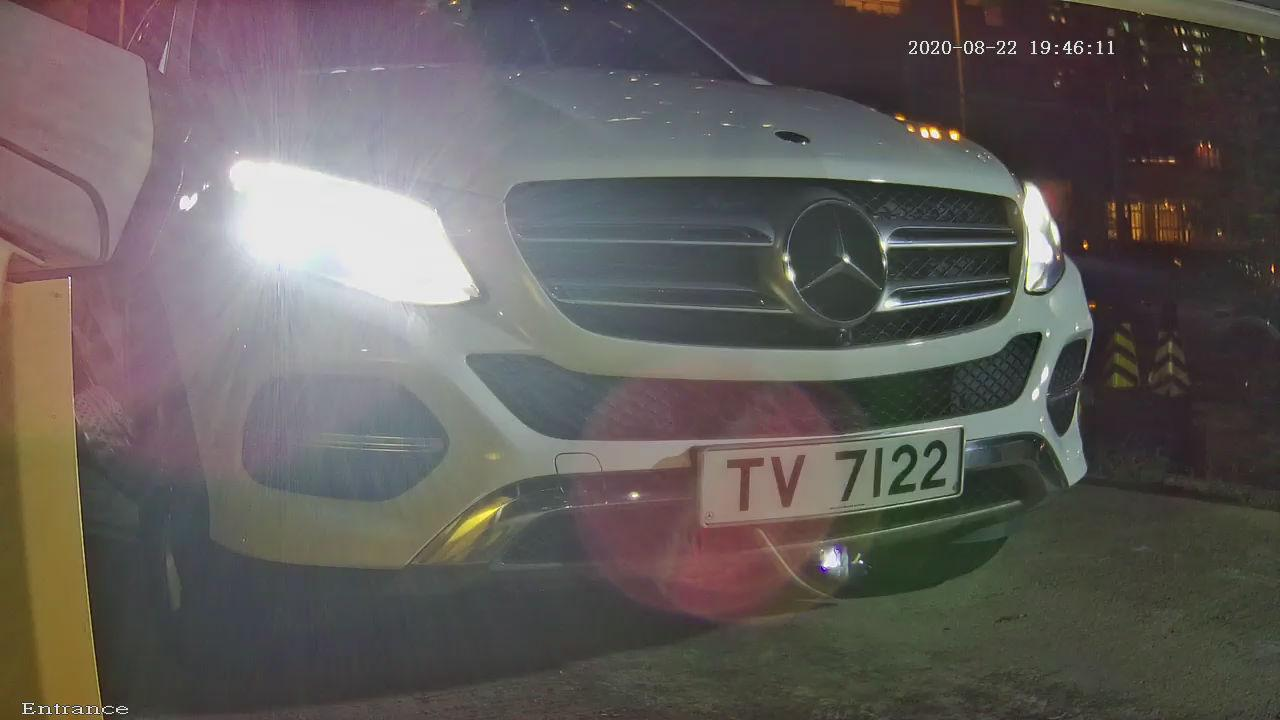License Plate: (632, 382, 1049, 589)
